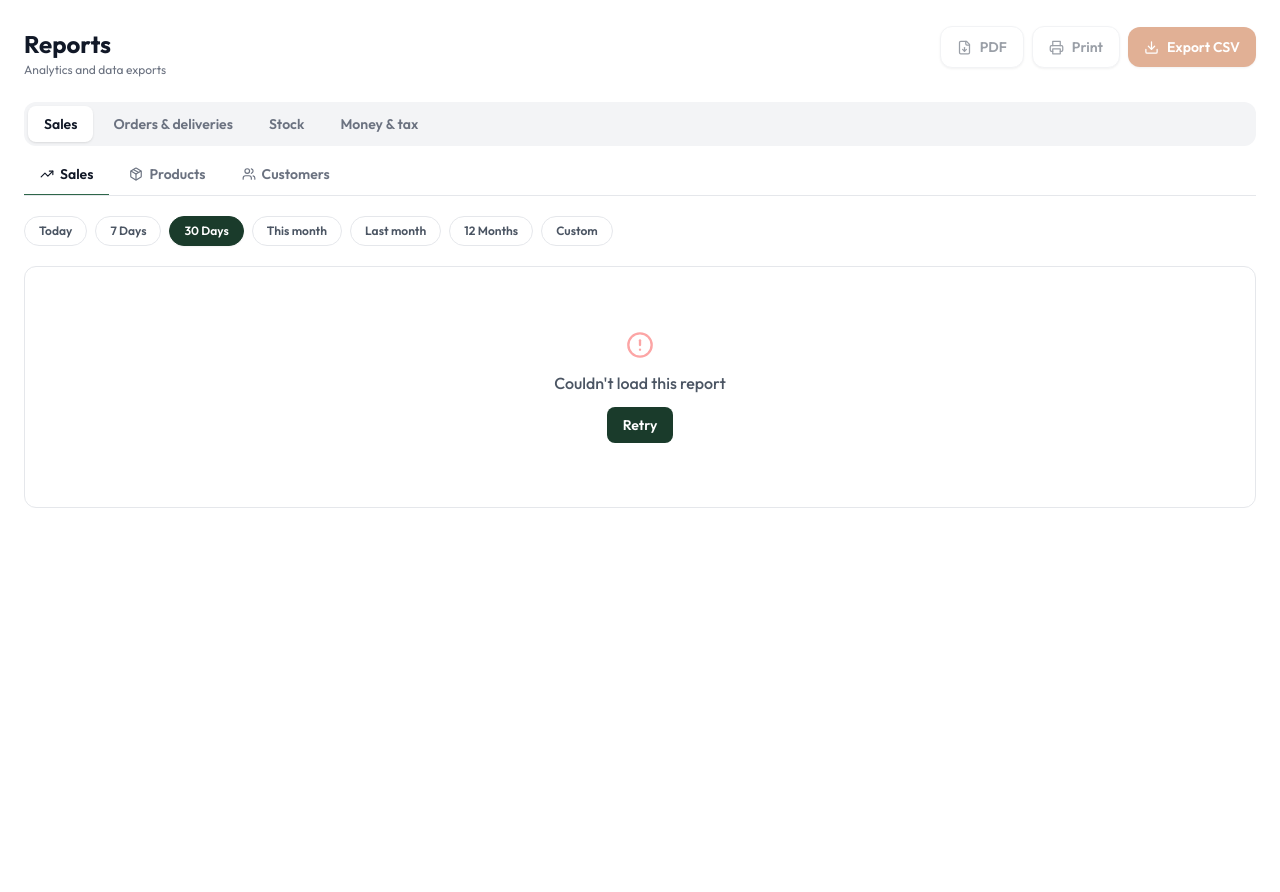
Test: Reports page: navigation › offers a retry when a report fails to load
expect the text "Couldn't load this report" is shown: met, box 554,373 -> 726,393
What coordinates should you click on to do the following:
click the button "Retry"
I would click on:
 (640, 425)
Its box is 607,407 -> 673,443.
(page scrolled)
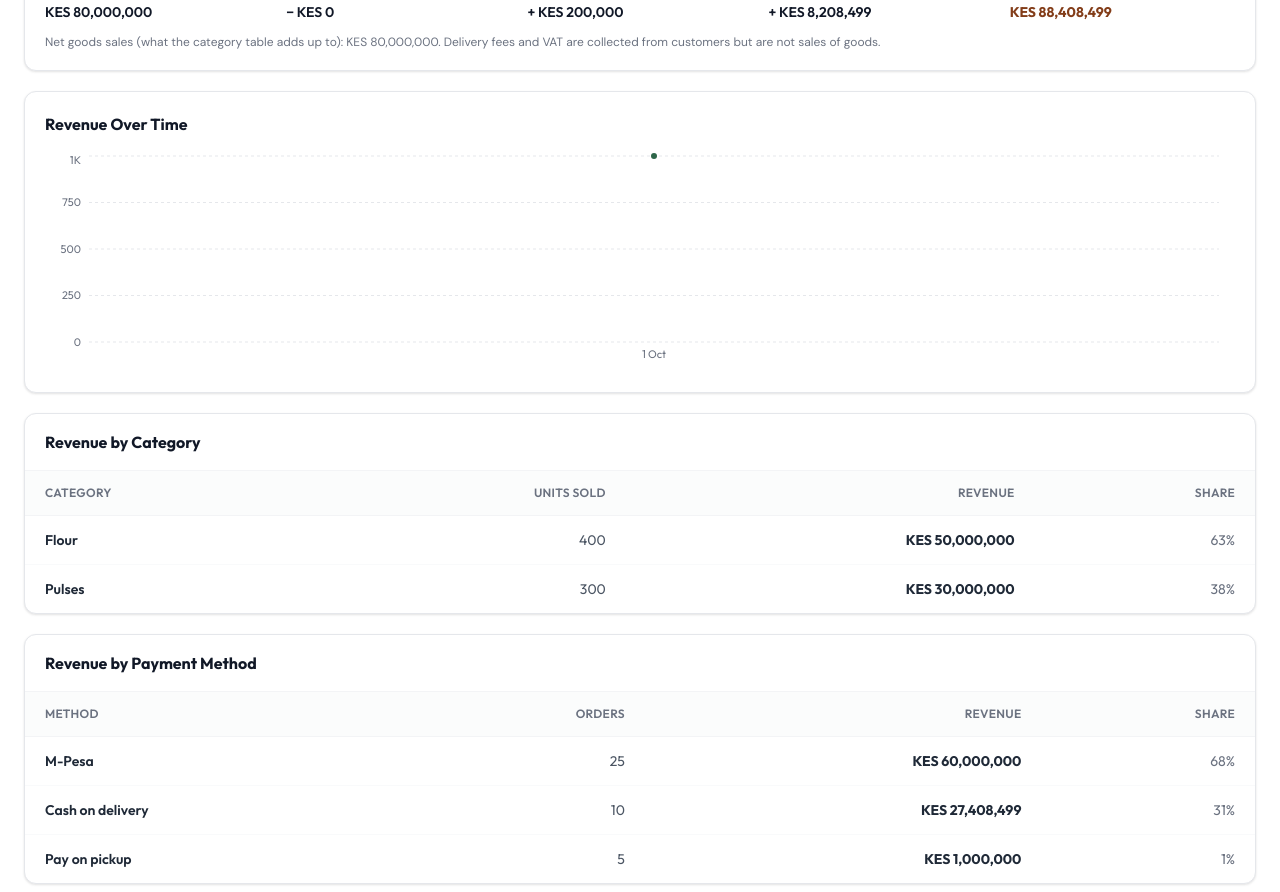
expect the heading "Revenue by Category" is shown: met, box 45,430 -> 200,454
